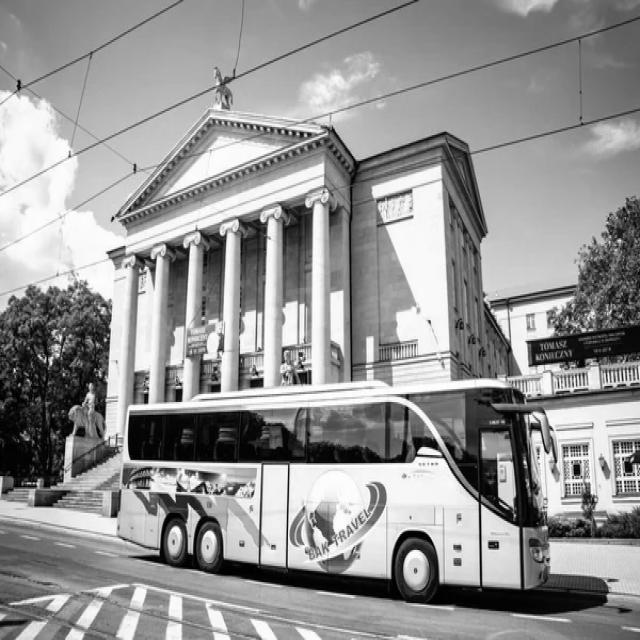Bus: (119, 381, 550, 601)
